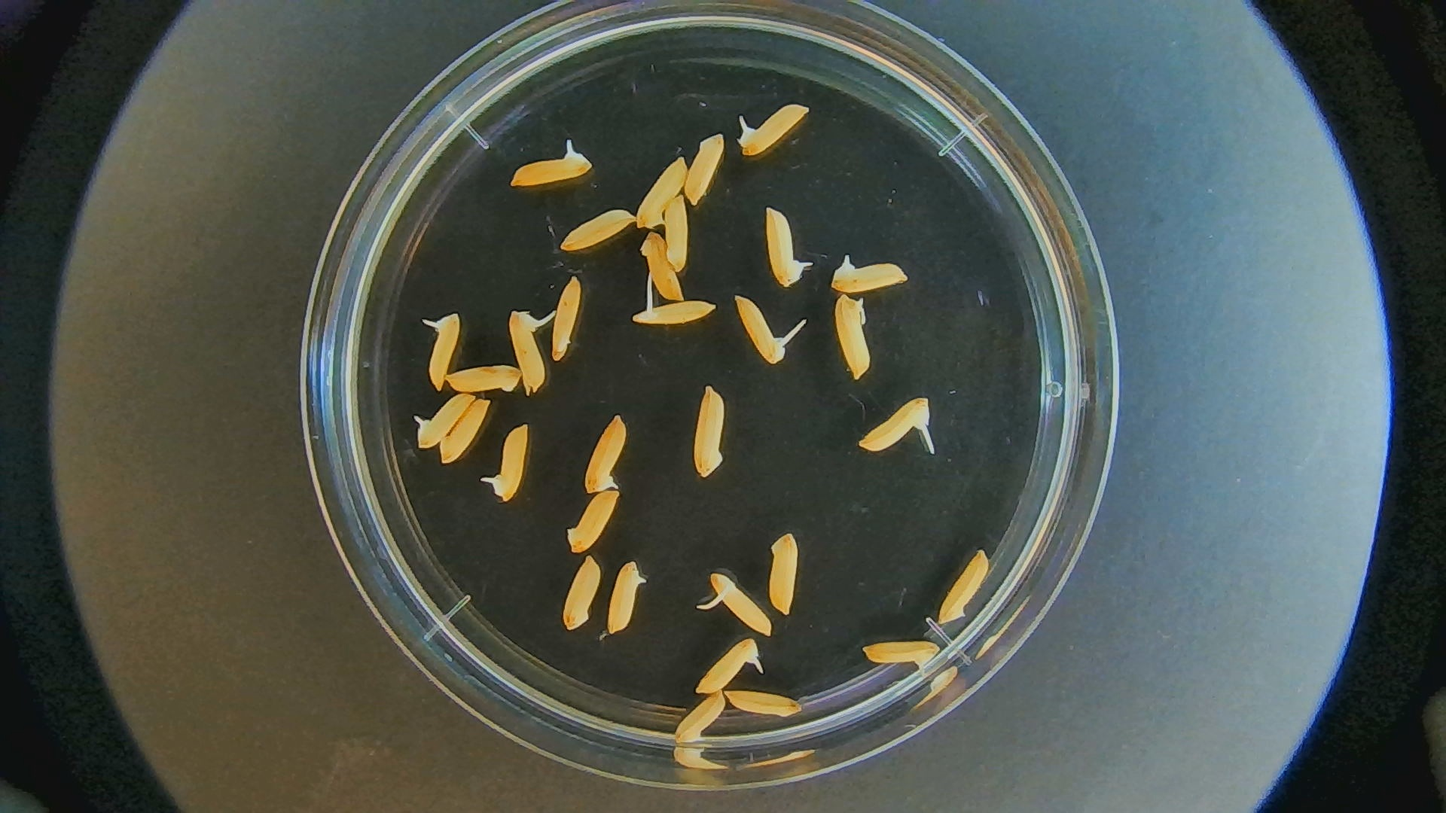no: (632, 154, 691, 233), (938, 549, 990, 626), (439, 395, 493, 467), (606, 557, 650, 641), (722, 681, 807, 724), (584, 414, 628, 495), (559, 207, 638, 252), (636, 229, 685, 301), (692, 385, 729, 480), (566, 490, 621, 553), (861, 633, 942, 673), (656, 193, 697, 272), (685, 132, 724, 208), (767, 525, 798, 620), (564, 556, 602, 632), (674, 689, 726, 744), (552, 276, 581, 364), (443, 363, 522, 394)
yes: (857, 394, 929, 452), (710, 571, 773, 637), (731, 297, 786, 367), (694, 638, 764, 693), (831, 291, 873, 382), (737, 102, 805, 157), (507, 306, 546, 392), (490, 424, 531, 501), (415, 394, 475, 445), (510, 149, 590, 187), (624, 295, 712, 329), (763, 209, 799, 290), (828, 259, 901, 294), (429, 315, 461, 392)
